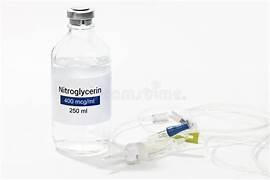Iv_Bottle: (51, 8, 110, 155)
